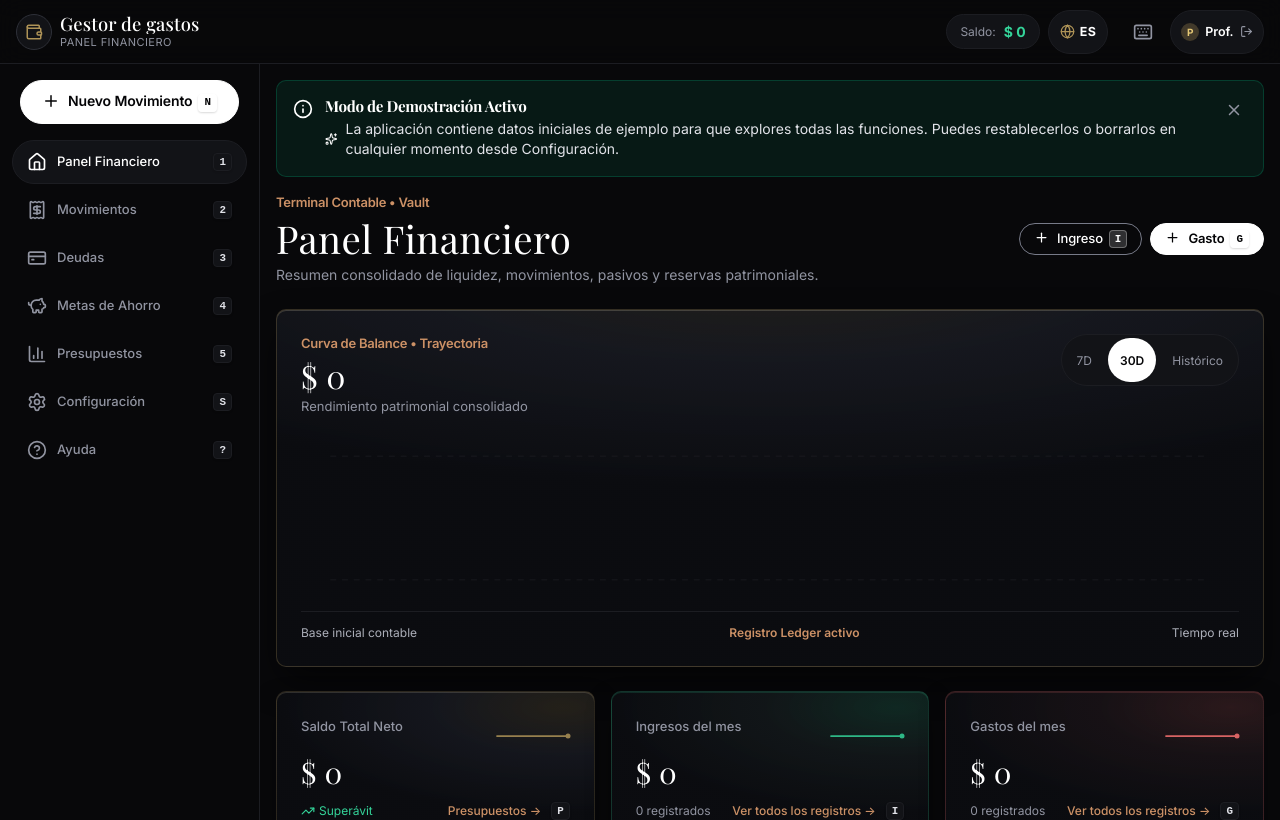
Sistema de Idiomas (i18n) › permite cambiar de español a inglés de forma totalmente reactiva y persistente
Expected: the text "Gestor de gastos" is shown, x1=60 y1=13 x2=200 y2=34
Expected: the text "Saldo:" is shown, x1=960 y1=22 x2=996 y2=40
Click the text "Configuración": (101, 402) x1=57 y1=392 x2=145 y2=412
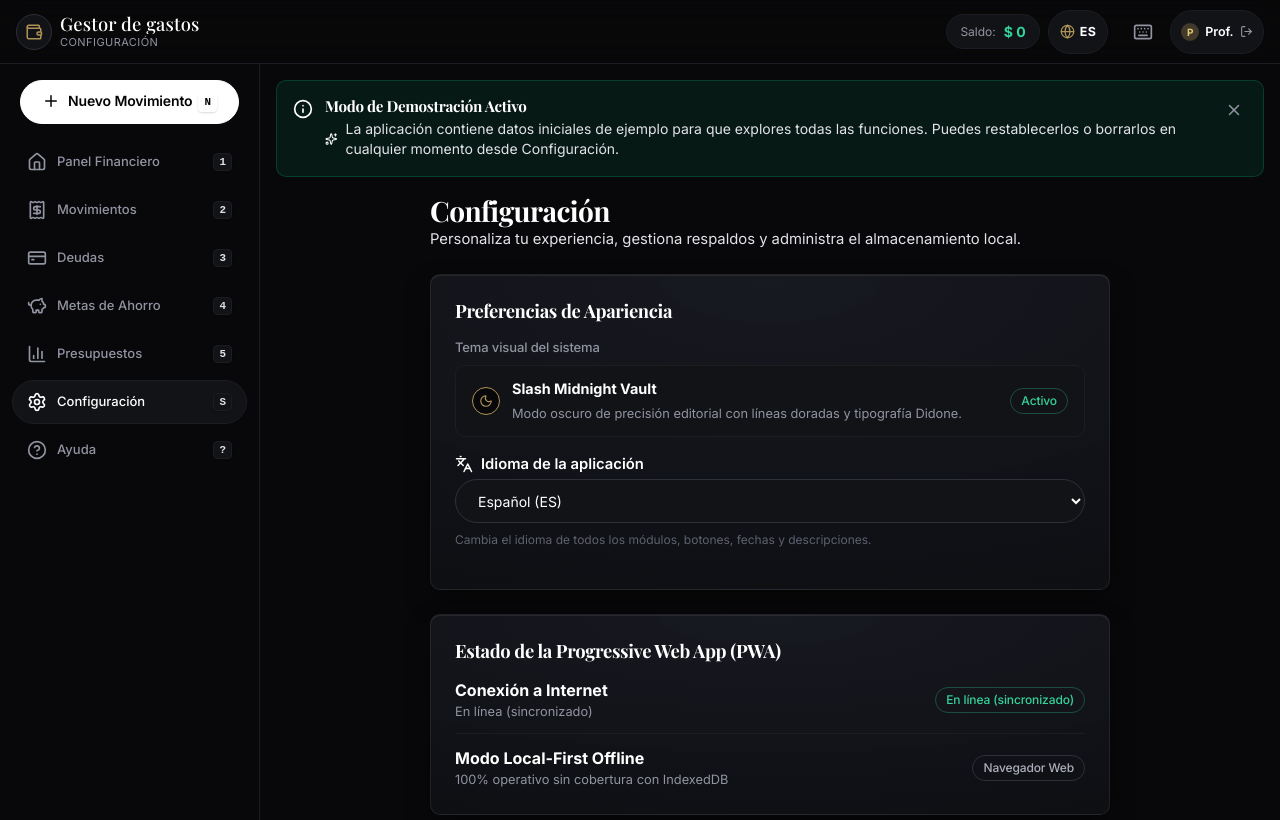
Now the dropdown is shown
Select "English (US)" in the dropdown: (770, 501) x1=455 y1=479 x2=1085 y2=523
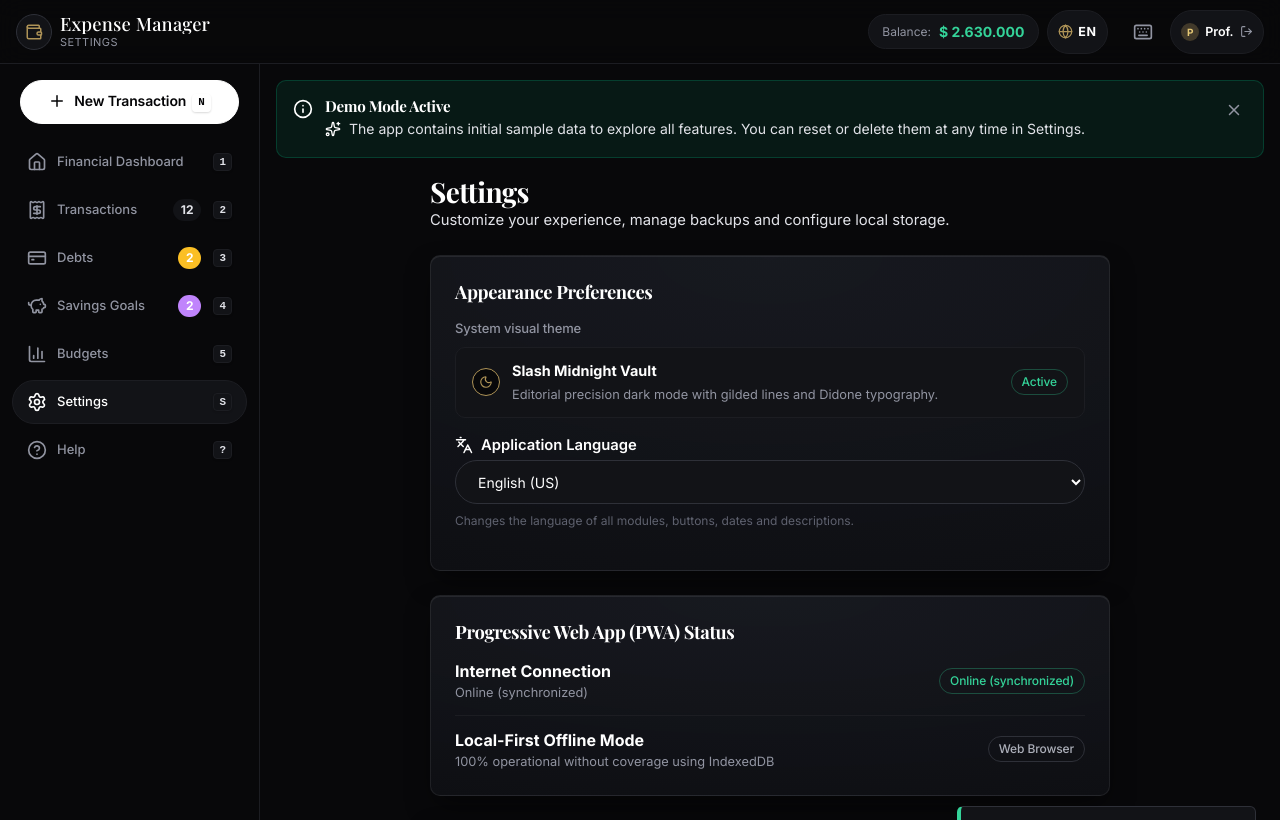
Now the text "Expense Manager" is shown, box x1=60 y1=13 x2=210 y2=34
Now the text "Balance:" is shown, box x1=882 y1=22 x2=931 y2=40
Now the heading "Appearance Preferences" is shown, box x1=455 y1=279 x2=652 y2=304
